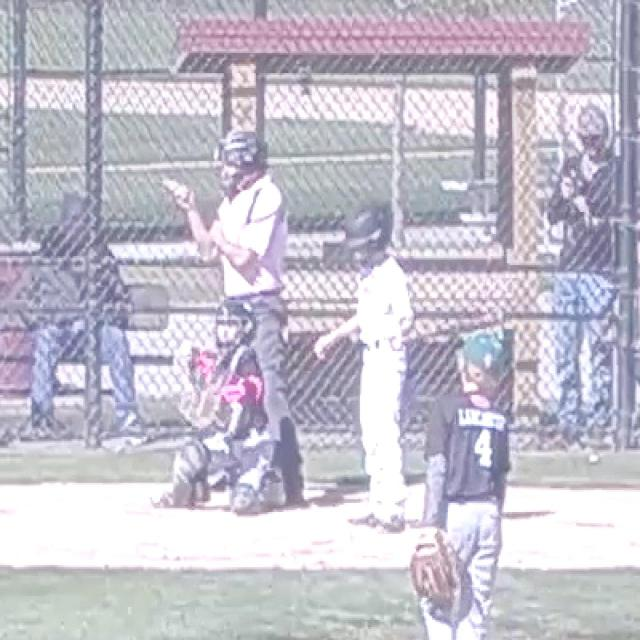baseball: (182, 342, 192, 354)
